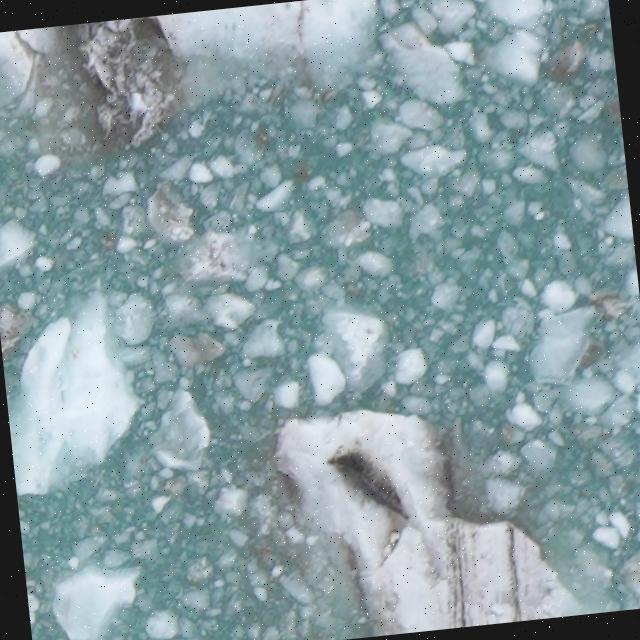seal: (321, 431, 414, 535)
